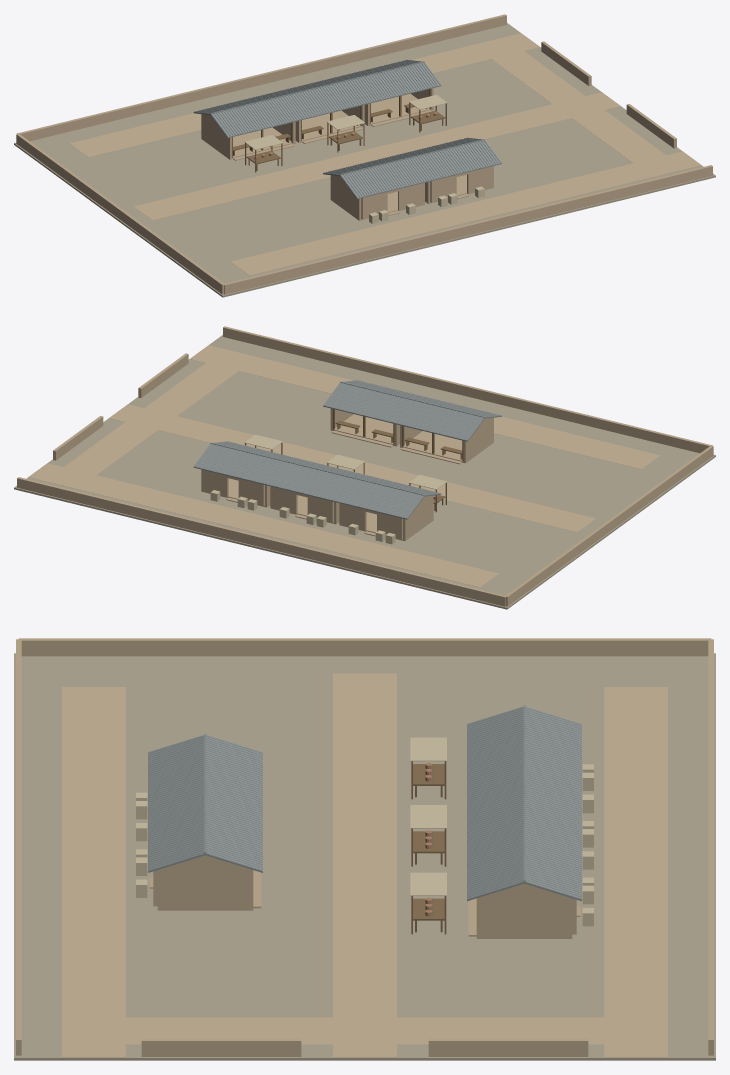
The model's file is market-cluster.glb.
3 views of the same model, one above another, from view 1: azimuth 30°, elevation 25°; view 2: azimuth 150°, elevation 25°; view 3: azimuth 270°, elevation 25° (orthographic). The views are drawn at different scales.
Visible parts, largest first — view 1: sample_ground, route_rearS, route_public, route_east, boundary_-21.7, boundary_21.7, north_shared_roofbed_-1, route_rearN, south_shared_roofbed_-1, boundary_west, N3_floor, N2_floor (+10 smaller); view 2: sample_ground, route_rearN, route_east, route_public, boundary_21.7, boundary_-21.7, north_shared_roofbed_1, route_rearS, south_shared_roofbed_1, boundary_west, S1_floor, S2_floor (+11 smaller); view 3: sample_ground, route_public, route_rearN, route_rearS, route_east, boundary_west, north_shared_roofbed_-1, north_shared_roofbed_1, south_shared_roofbed_1, south_shared_roofbed_-1, S2_sidewall.001, N3_sidewall.001 (+12 smaller).
Part boxes in pixels (x1,y1,x2,y2): sample_ground: [14, 23, 715, 297]; route_rearS: [231, 163, 651, 275]; route_public: [134, 104, 571, 220]; route_east: [472, 37, 684, 177]; boundary_-21.7: [223, 165, 712, 294]; boundary_21.7: [17, 14, 506, 141]; north_shared_roofbed_-1: [210, 62, 441, 137]; route_rearN: [69, 45, 490, 157]; south_shared_roofbed_-1: [340, 140, 501, 199]; boundary_west: [16, 133, 223, 294]; N3_floor: [364, 93, 433, 125]; N2_floor: [295, 110, 363, 142]; sample_ground: [14, 335, 715, 609]; route_rearN: [78, 475, 498, 587]; route_east: [45, 349, 257, 489]; route_public: [158, 416, 595, 532]; boundary_21.7: [17, 477, 506, 606]; boundary_-21.7: [223, 326, 712, 453]; north_shared_roofbed_1: [193, 444, 424, 519]; route_rearS: [239, 357, 660, 469]; south_shared_roofbed_1: [323, 383, 484, 441]; boundary_west: [506, 445, 713, 606]; S1_floor: [400, 431, 493, 463]; S2_floor: [330, 414, 399, 446]; sample_ground: [14, 653, 715, 1060]; route_public: [333, 673, 396, 1017]; route_rearN: [604, 687, 667, 1017]; route_rearS: [62, 687, 125, 1017]; route_east: [62, 1017, 667, 1044]; boundary_west: [18, 638, 711, 656]; north_shared_roofbed_-1: [467, 708, 524, 901]; north_shared_roofbed_1: [524, 708, 581, 901]; south_shared_roofbed_1: [205, 736, 262, 872]; south_shared_roofbed_-1: [148, 736, 205, 872]; S2_sidewall.001: [157, 869, 253, 908]; N3_sidewall.001: [476, 898, 572, 936].
Bounding box in the file's own units: 60 × 4.53 × 44.
